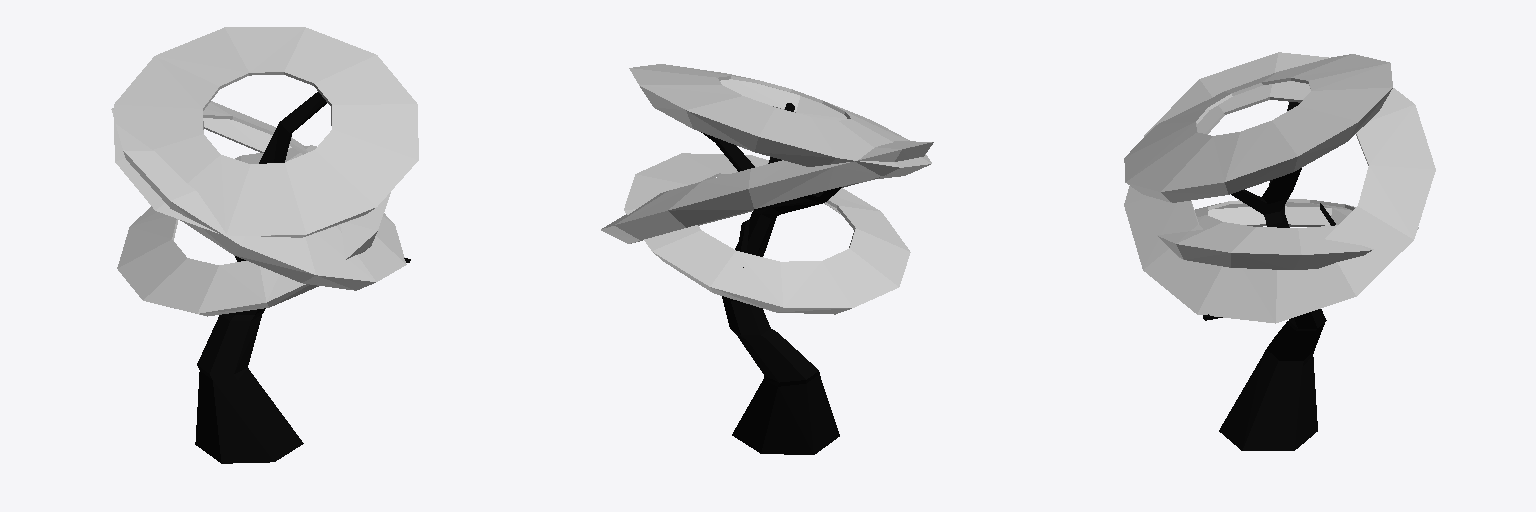
The model's file is AtomTree.obj.
The picture shows the model from 3 angles: view 1: azimuth 30°, elevation 25°; view 2: azimuth 150°, elevation 25°; view 3: azimuth 270°, elevation 25°; orthographic projection.
Visible parts, largest first — view 1: Circle; view 2: Circle; view 3: Circle.
Part boxes in pixels (bbox=[...]): Circle: bbox=[111, 27, 418, 463]; Circle: bbox=[601, 64, 933, 454]; Circle: bbox=[1124, 52, 1435, 450].
Size of the model in its own units: 8.97 by 11.31 by 8.84.